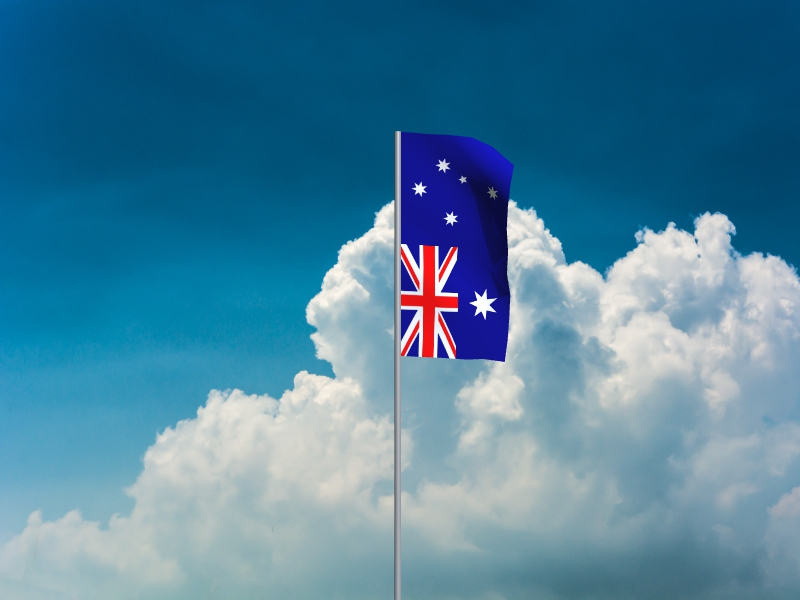au: (402, 133, 516, 364)
